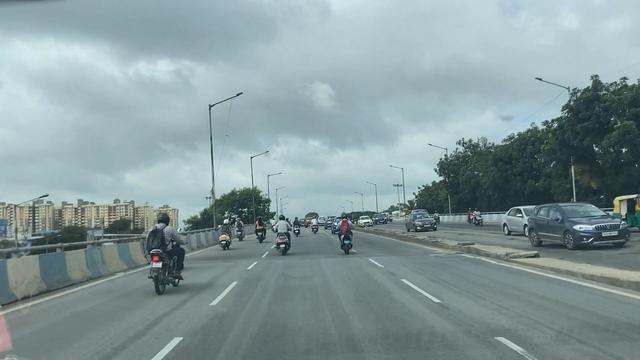LMV: (150, 211, 180, 297), (336, 212, 357, 257), (275, 214, 293, 255), (220, 217, 233, 252), (254, 213, 265, 244), (309, 215, 320, 233)
